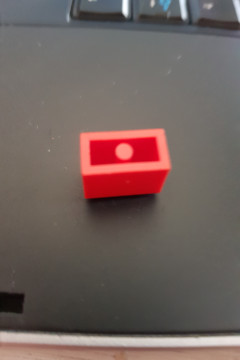1x2 red: (77, 128, 174, 202)
